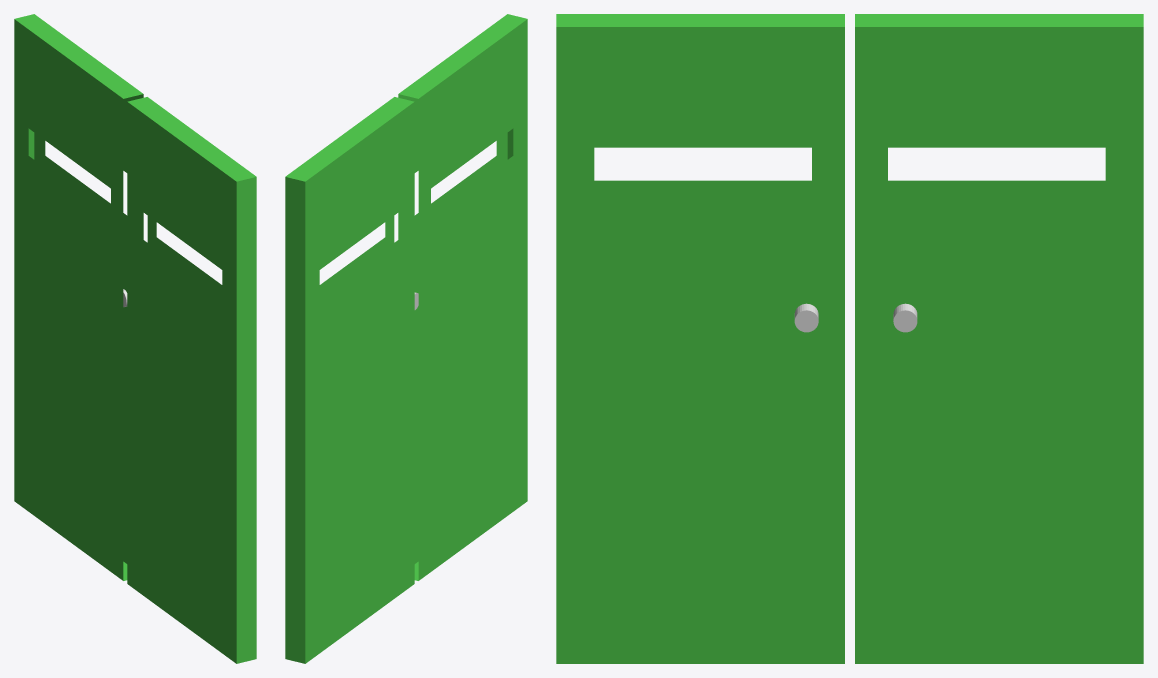
The model's file is PintuRumahSakitHijau.fbx.
3 renders of one model, left to right at view 1: azimuth 30°, elevation 25°; view 2: azimuth 150°, elevation 25°; view 3: azimuth 270°, elevation 25°, orthographic. The views are drawn at different scales.
Visible parts, largest first — view 1: Cube; view 2: Cube; view 3: Cube.
Part boxes in pixels (x1,y1,x2,y2): Cube: (14,14,256,663); Cube: (285,14,527,663); Cube: (556,14,1143,663).
Bounding box in the file's own units: 32.85 × 484 × 404.
